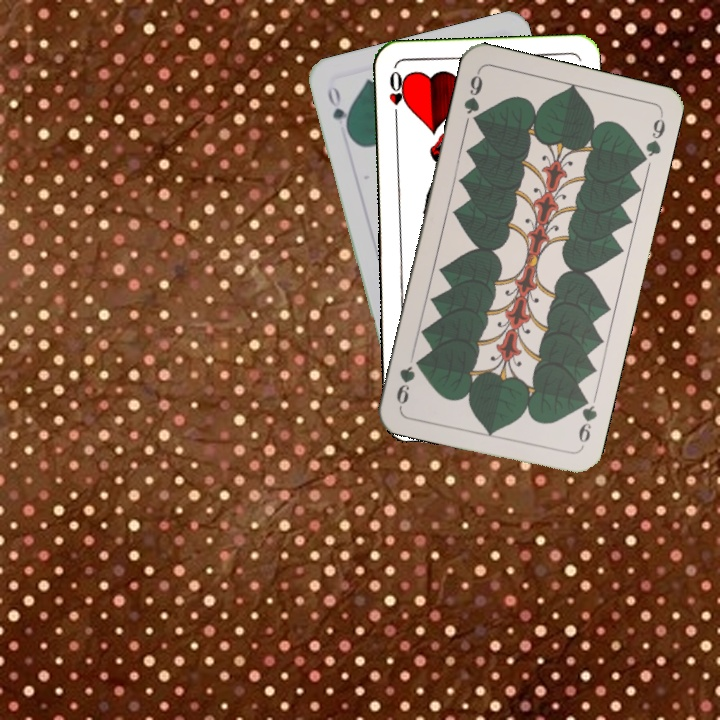G9: (460, 67, 485, 128), (574, 391, 600, 445)
GO: (323, 82, 353, 138)
HO: (385, 67, 407, 125)
